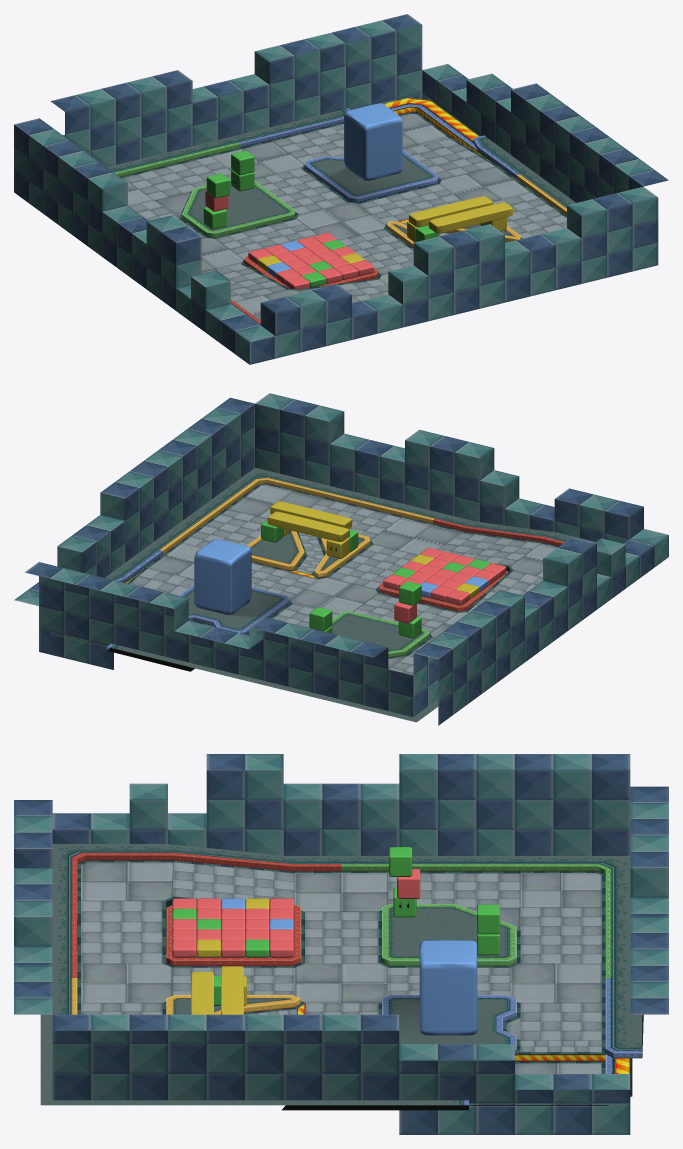
3 renders of one model, top to bottom at view 1: azimuth 30°, elevation 25°; view 2: azimuth 150°, elevation 25°; view 3: azimuth 270°, elevation 25°, orthographic. The views are drawn at different scales.
Parts seen in each view (by area): view 1: Material1.002, Material1.001, Material1.004, Material1.003; view 2: Material1.002, Material1.001, Material1.004, Material1.003; view 3: Material1.002, Material1.001, Material1.004, Material1.003.
Boxes of the visible parts, <box> form: Material1.002: <box>14,14,668,364</box>; Material1.001: <box>122,113,566,320</box>; Material1.004: <box>107,97,575,324</box>; Material1.003: <box>203,103,512,289</box>; Material1.002: <box>14,393,668,725</box>; Material1.001: <box>130,485,557,675</box>; Material1.004: <box>51,467,595,722</box>; Material1.003: <box>107,501,506,671</box>; Material1.002: <box>14,754,668,1134</box>; Material1.001: <box>81,862,601,1073</box>; Material1.004: <box>40,844,642,1106</box>; Material1.003: <box>172,847,643,1110</box>.
Bounding box in the file's own units: 72.85 × 14.75 × 72.85.
4 materials, 4 textured.
